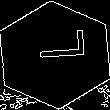L_W: (26, 38, 84, 72)
